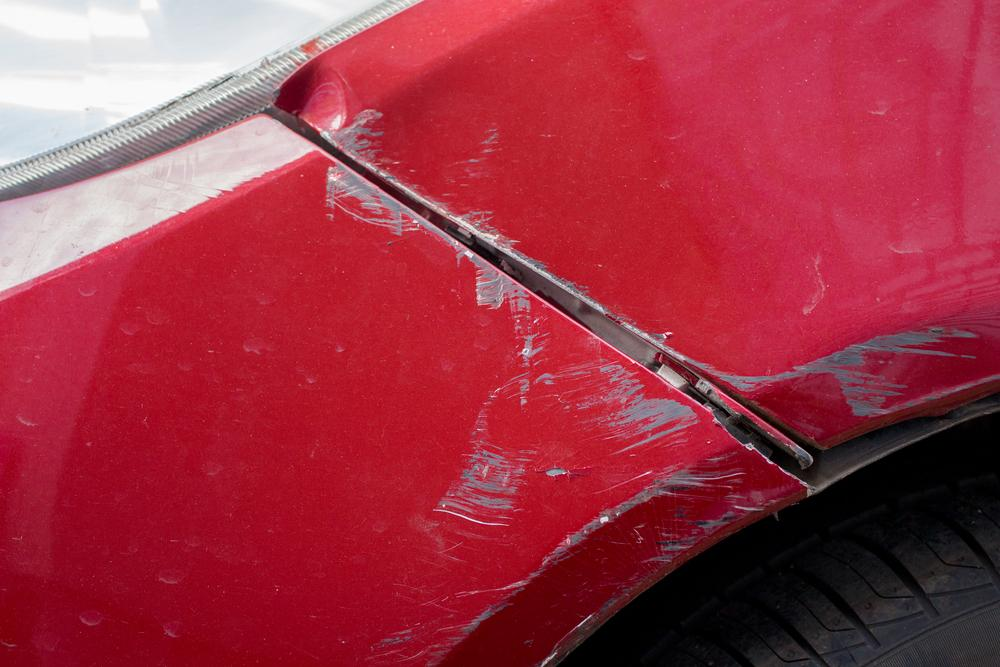dent: (274, 60, 363, 135)
scratch: (309, 160, 795, 667), (719, 323, 1000, 423)
